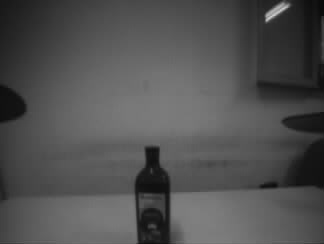Bottle: (134, 146, 171, 244)
